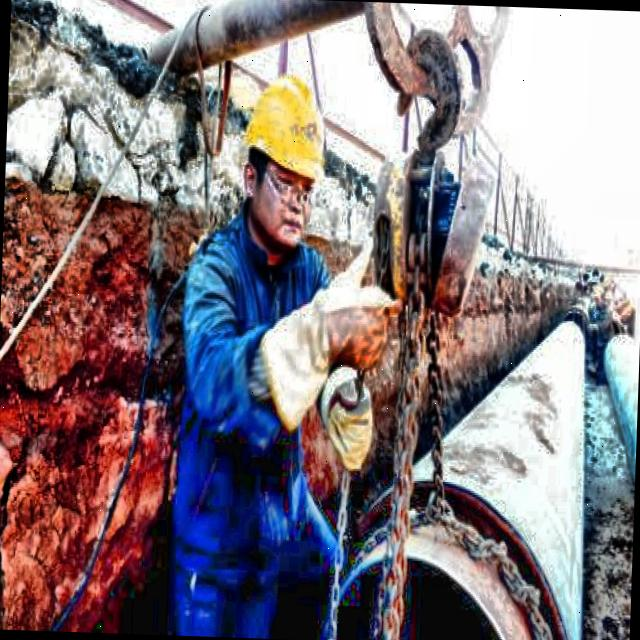helmet: (231, 56, 333, 264)
